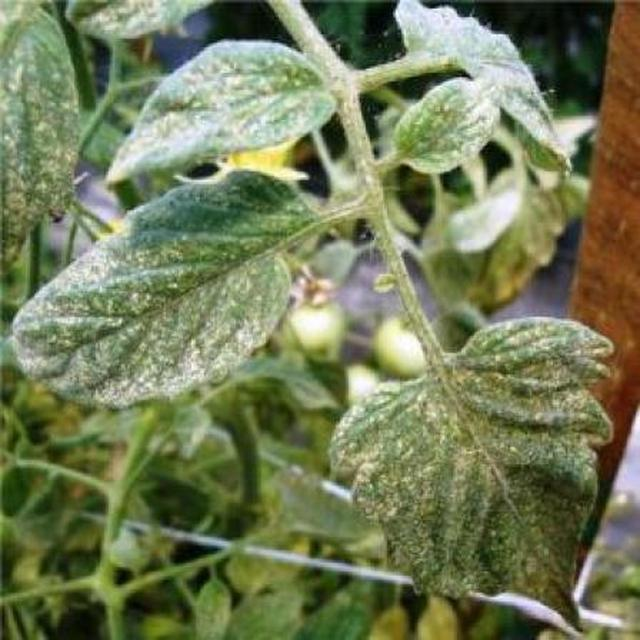Spider Mites Leaf: (163, 151, 640, 640)
